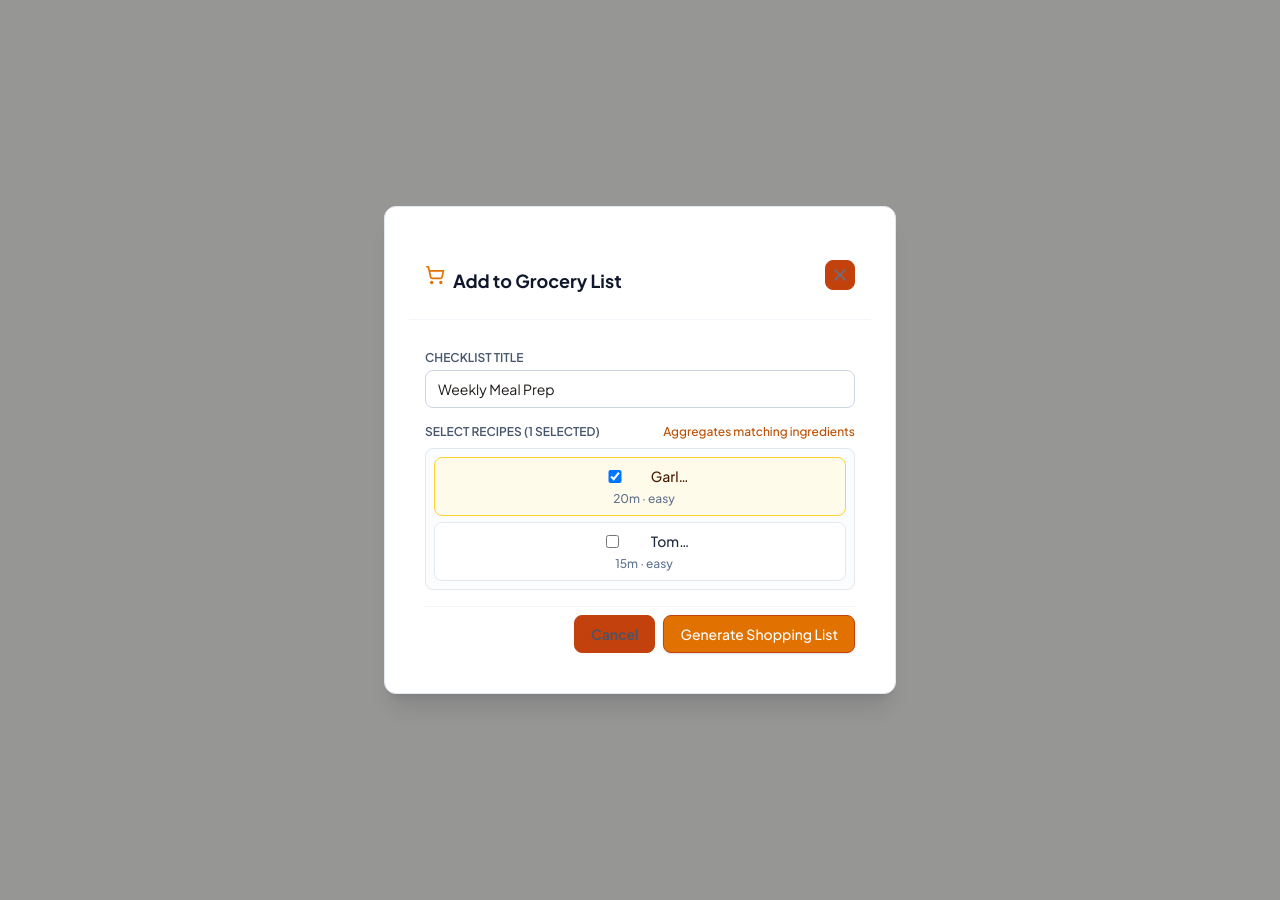
US4.2.4: AddToGroceryModal › Criterion 6: submit button is disabled when zero recipes are selected
This screenshot has width=1280, height=900.
Expected: the text "Garlic Pasta" is shown, x1=651 y1=466 x2=691 y2=486
Step 1. Click the checkbox labelled "Garlic Pasta 20m · easy" → (615, 476), box x1=589 y1=470 x2=641 y2=483
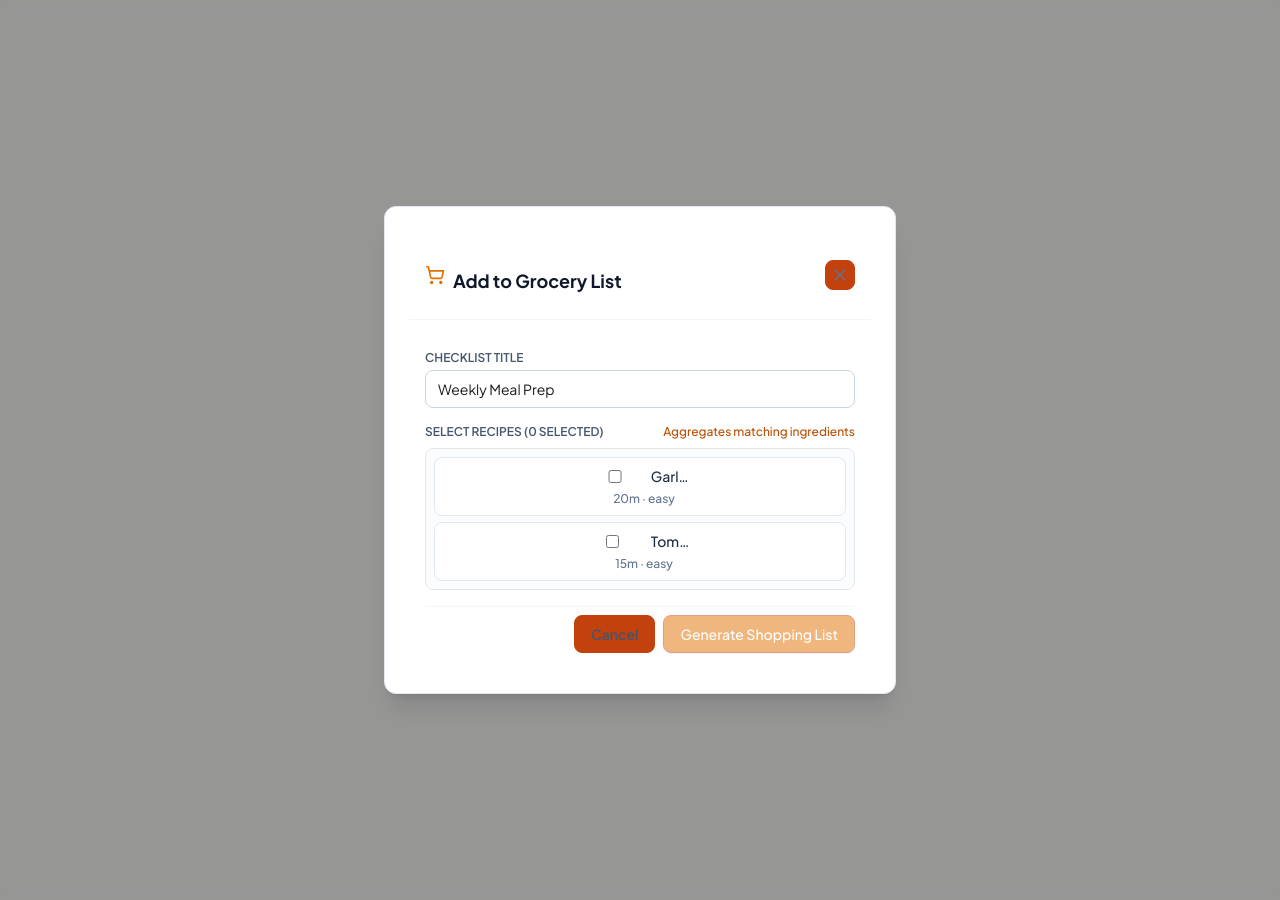
Result: the text "Select Recipes (0 selected)" is shown at x1=425 y1=424 x2=604 y2=440
Result: the button "Generate Shopping List" is disabled at x1=663 y1=615 x2=855 y2=653
